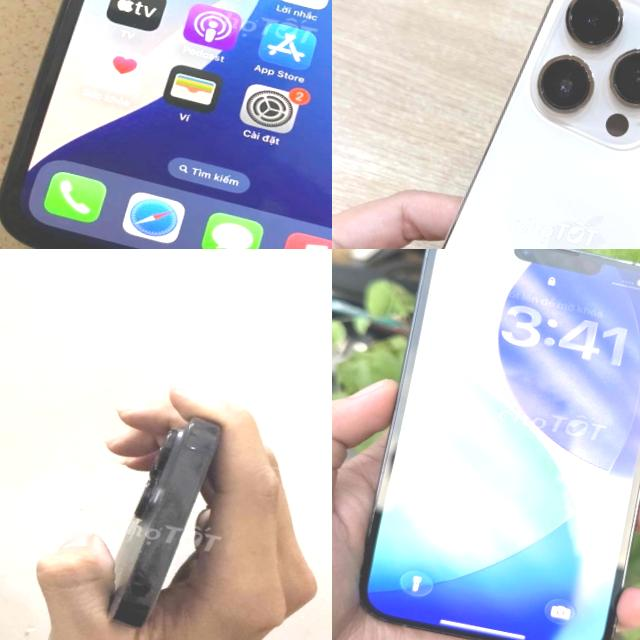gen_12_13: (339, 249, 640, 640)
gen_14: (362, 0, 640, 249), (78, 391, 239, 640)
gen_x_xs: (0, 0, 332, 249)
